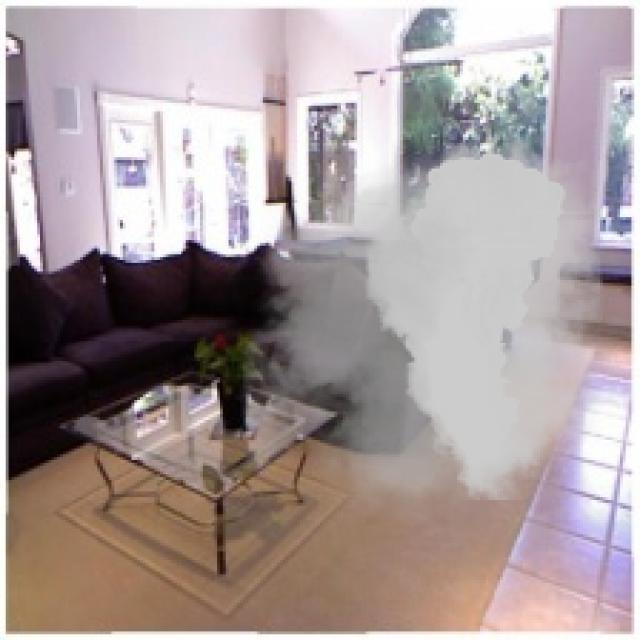smoke: (217, 125, 634, 526)
